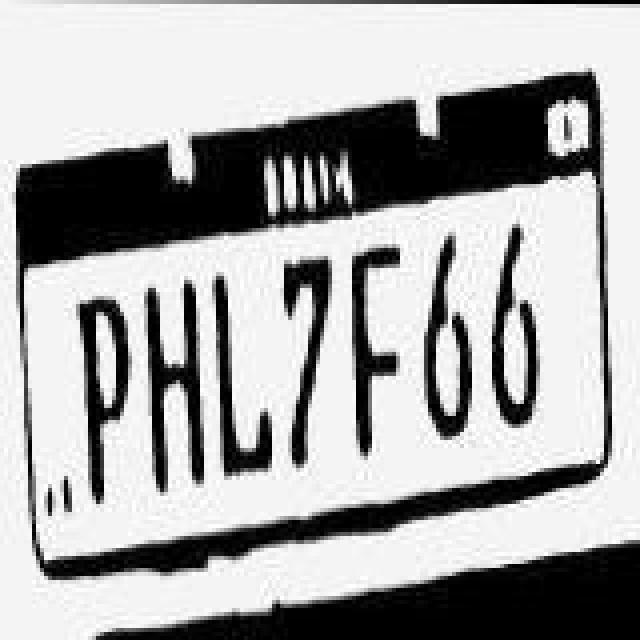6: (420, 230, 476, 446), (494, 216, 546, 432)
7: (280, 256, 336, 468)
F: (348, 246, 404, 462)
H: (146, 276, 206, 496)
L: (214, 270, 274, 478)
P: (74, 294, 134, 506)
